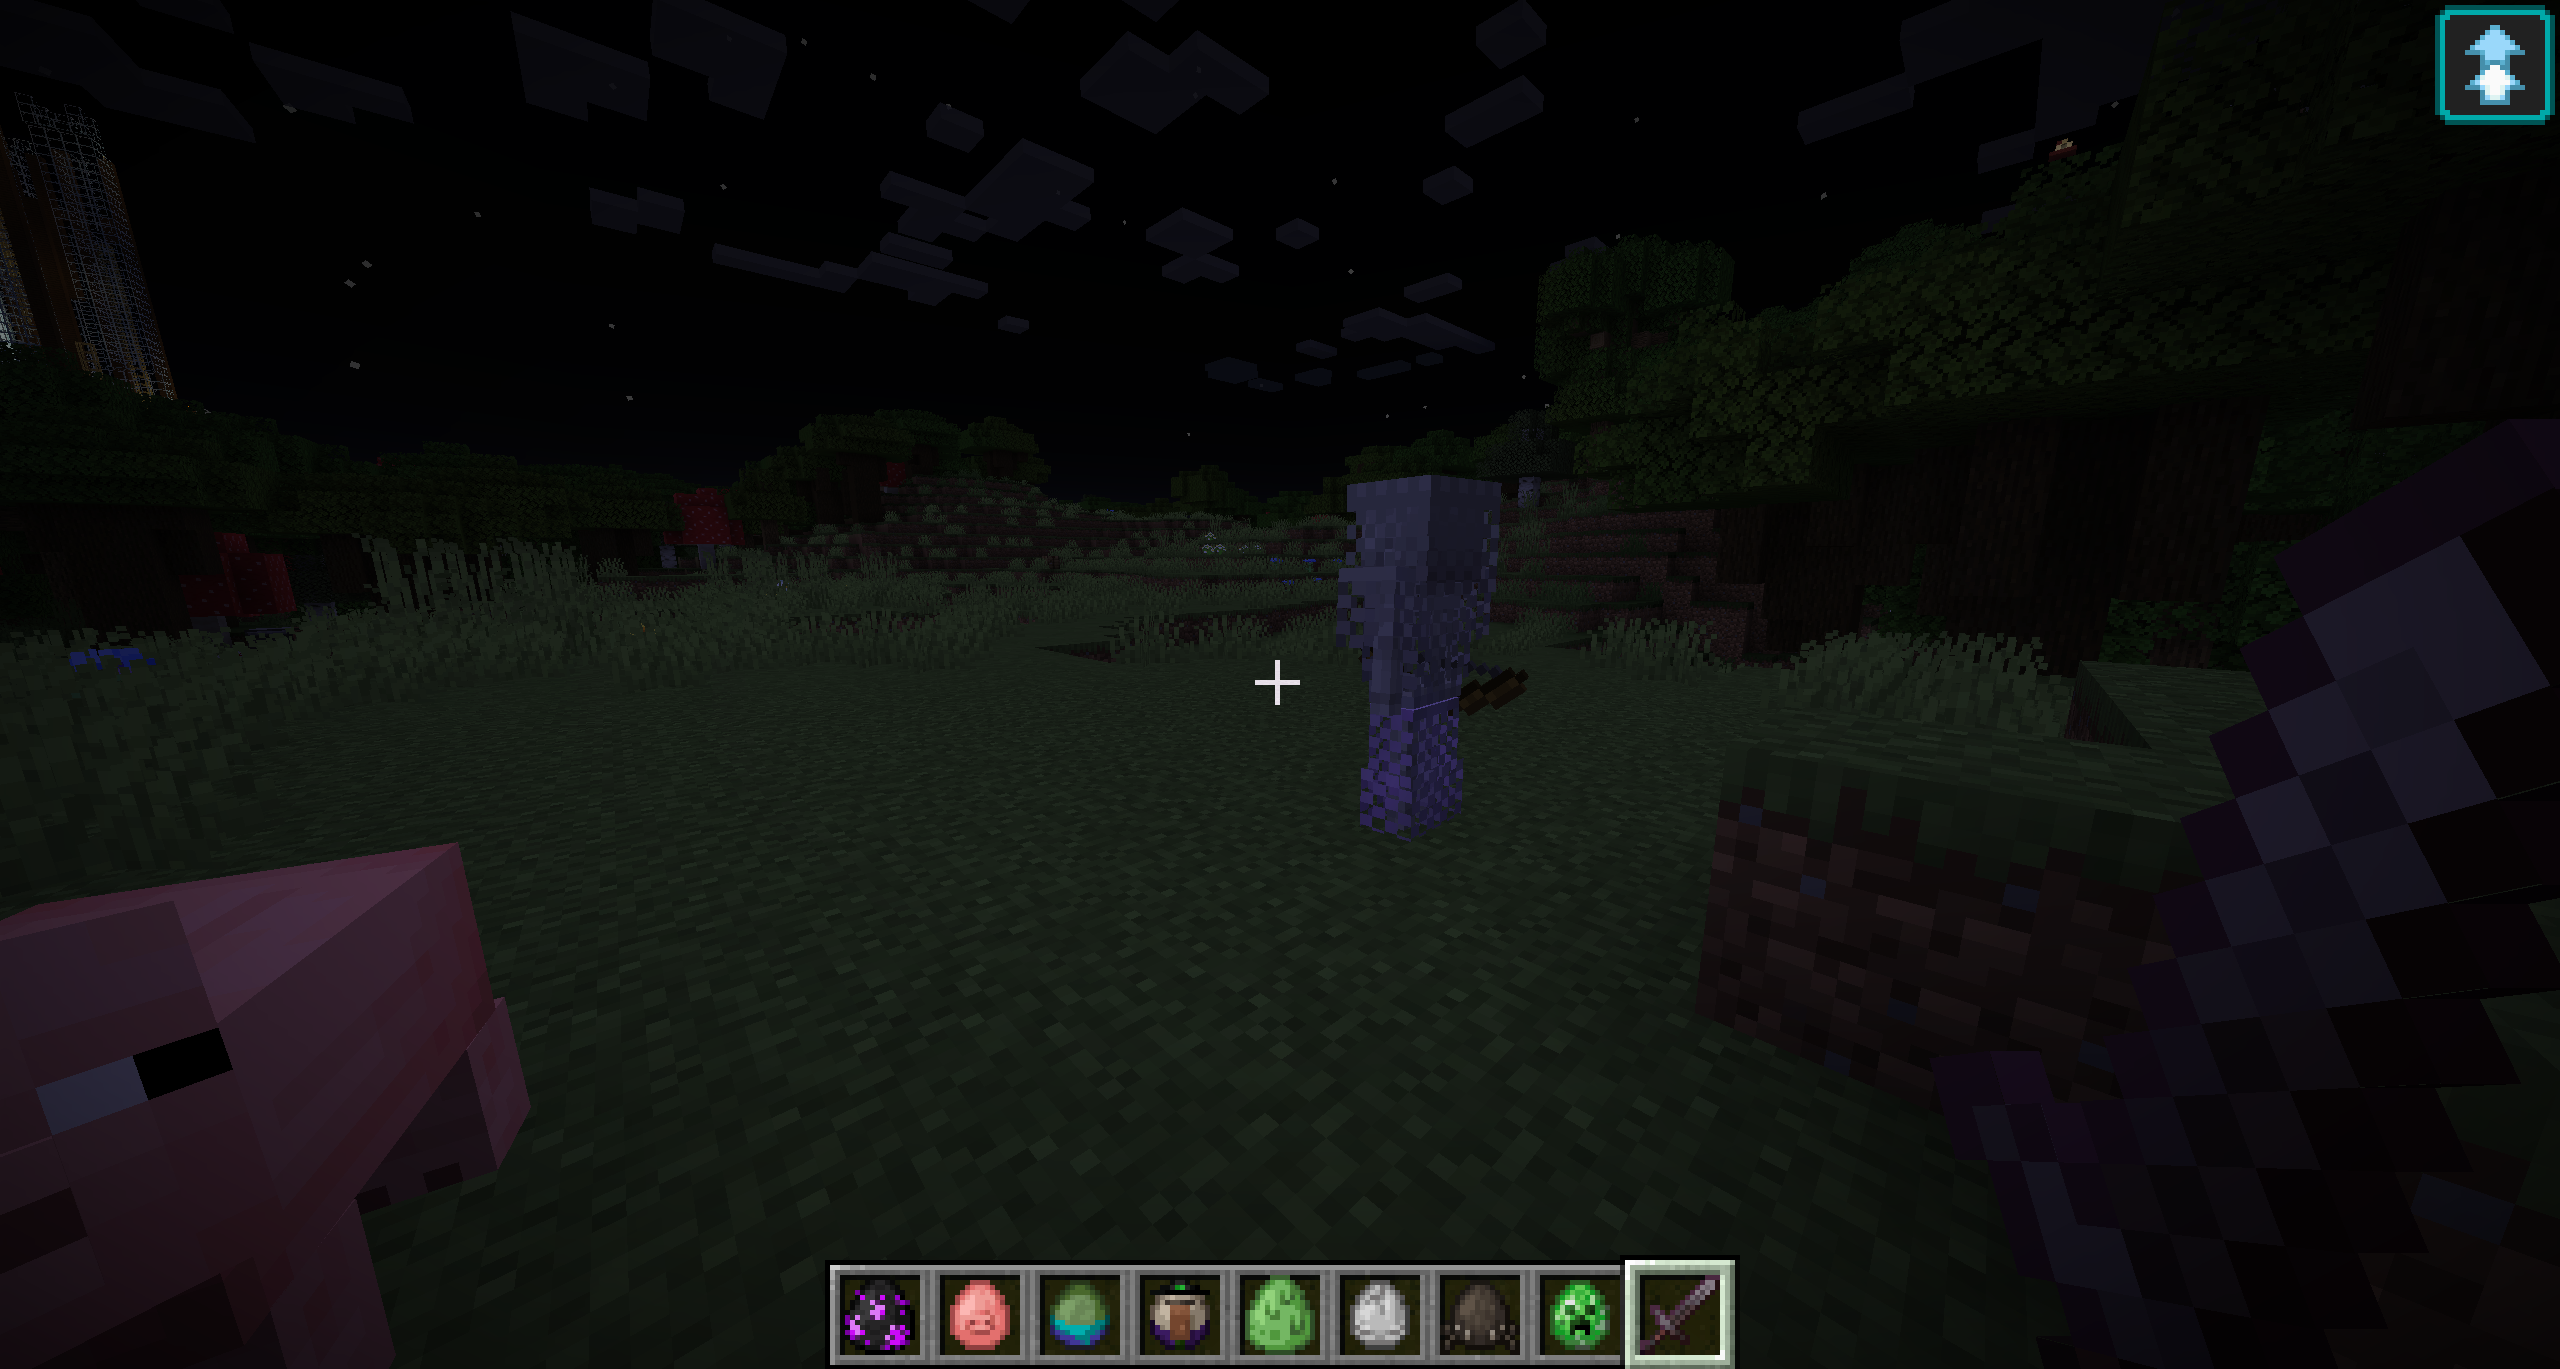cochons: (2, 800, 532, 1364)
squelettes: (1338, 470, 1526, 829)
